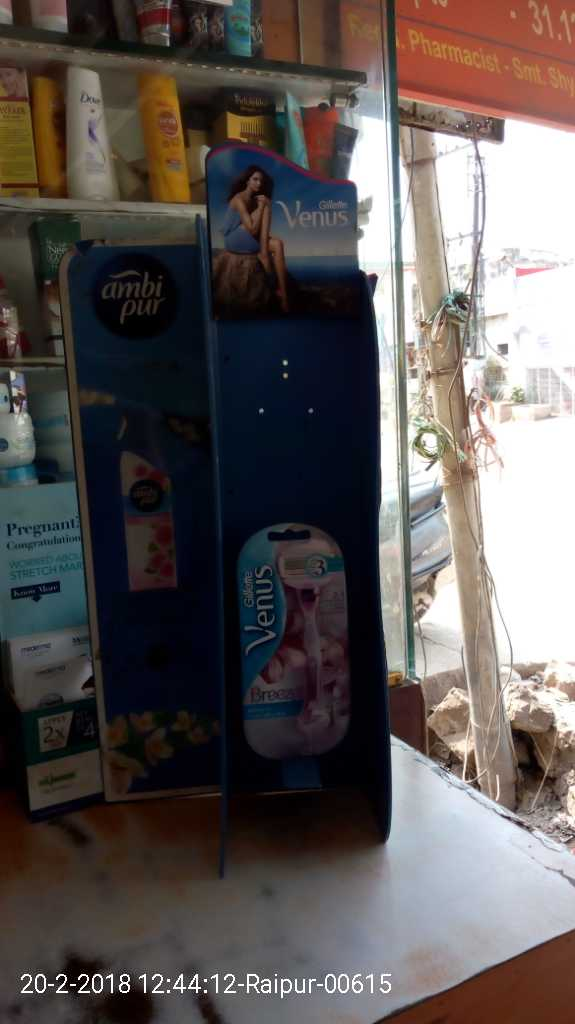venus: (237, 516, 367, 757)
